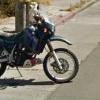Motorcycle: (3, 17, 88, 87)
